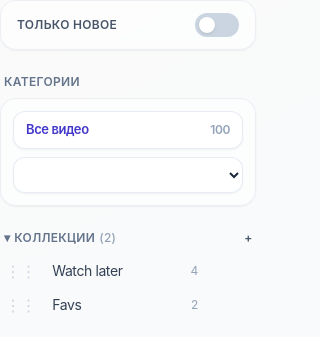
Scenario: Sidebar.vue › collapses and expands the collections list
Check: the list with test id "sidebar-collections-list" is shown, box [5,254,206,320]
Click the button with test id "sidebar-collections-toggle".
click(60, 238)  # box [4,230,116,246]
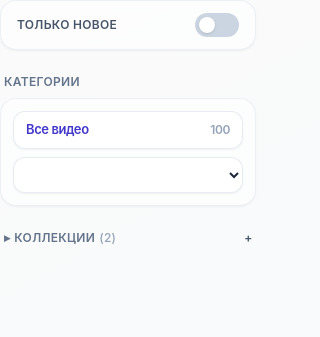
Click the button with test id "sidebar-collections-toggle".
click(60, 238)  # box [4,230,116,246]
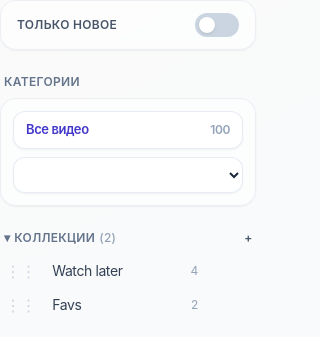
Check: the list with test id "sidebar-collections-list" is shown, box [5,254,206,320]
